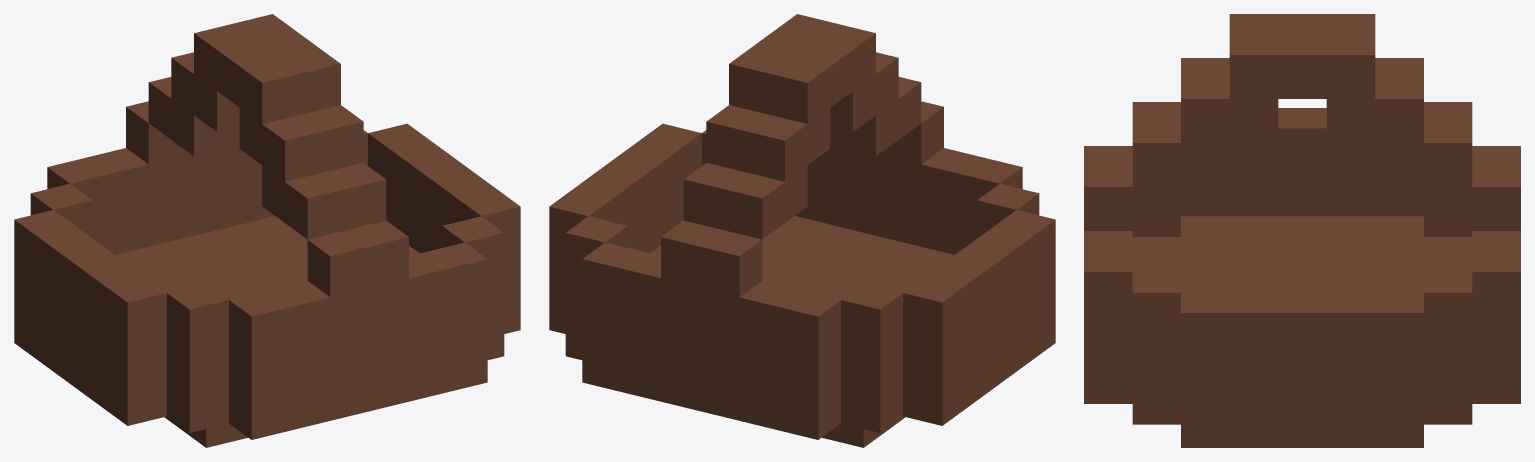
File: basket.glb
3 renders of one model, left to right at view 1: azimuth 30°, elevation 25°; view 2: azimuth 150°, elevation 25°; view 3: azimuth 270°, elevation 25°, orthographic. The views are drawn at different scales.
Visible parts, largest first — view 1: Untitled; view 2: Untitled; view 3: Untitled.
Part boxes in pixels (<box>): Untitled: <box>14,14,520,447</box>; Untitled: <box>549,14,1055,447</box>; Untitled: <box>1084,14,1520,447</box>.
Bounding box in the file's own units: 1 × 0.8 × 0.9.
Materials: 1 (1 with a texture image).
